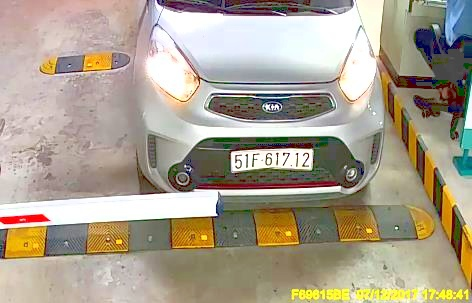plate: (227, 145, 315, 175)
